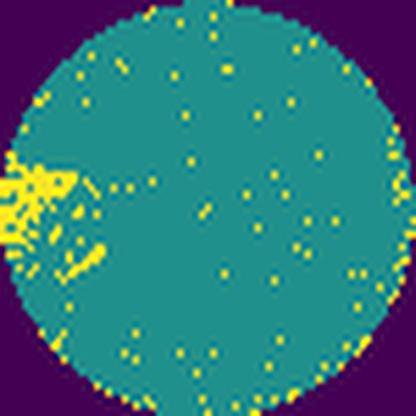Loc: (0, 153, 80, 248), (55, 242, 110, 290)
